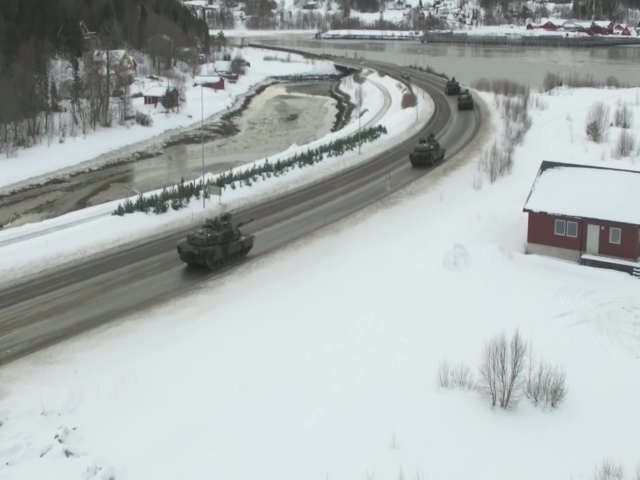vehicle: (173, 217, 257, 270), (407, 132, 447, 168), (457, 88, 473, 111), (445, 77, 460, 97)
